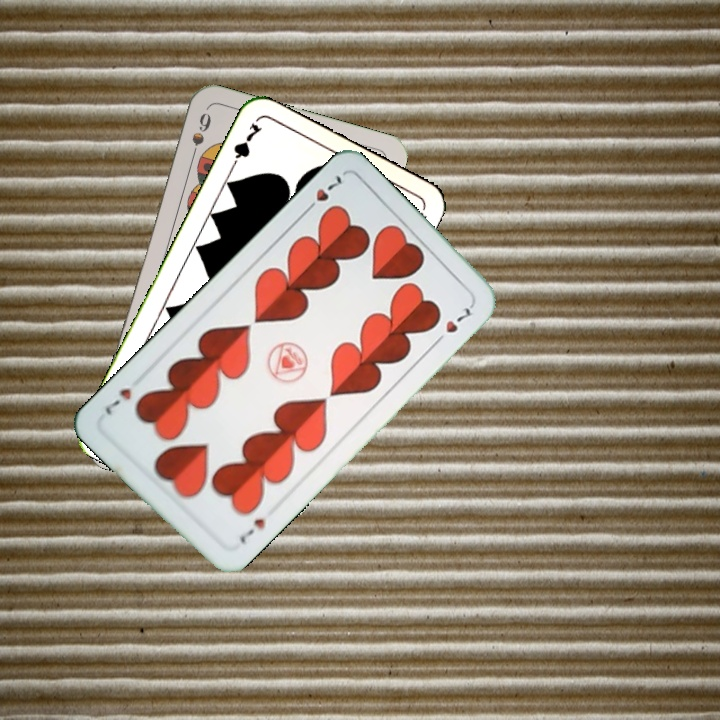G7: (226, 119, 265, 174)
H7: (300, 170, 344, 217), (234, 514, 268, 548)
S9: (186, 109, 214, 165)
